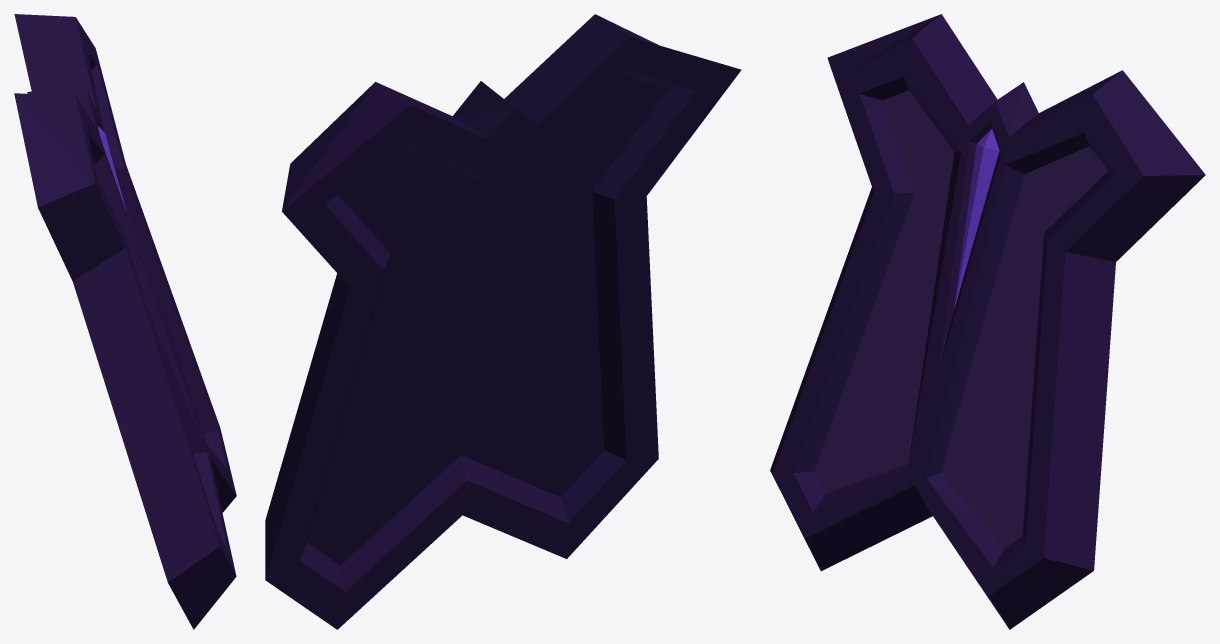
Rendered from Puranium shield.fbx.
3 renders of one model, left to right at view 1: azimuth 30°, elevation 25°; view 2: azimuth 150°, elevation 25°; view 3: azimuth 270°, elevation 25°, orthographic. The views are drawn at different scales.
Visible parts, largest first — view 1: Line001; view 2: Line001; view 3: Line001.
Boxes of the visible parts, left/top/right/bottom form: Line001: left=14, top=14, right=236, bottom=629; Line001: left=265, top=14, right=741, bottom=629; Line001: left=770, top=14, right=1205, bottom=629.
Bounding box in the file's own units: 19.76 × 34.16 × 26.22.
